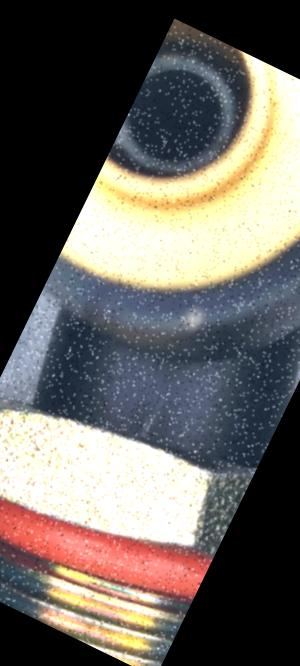white mark: (135, 394, 170, 447)
